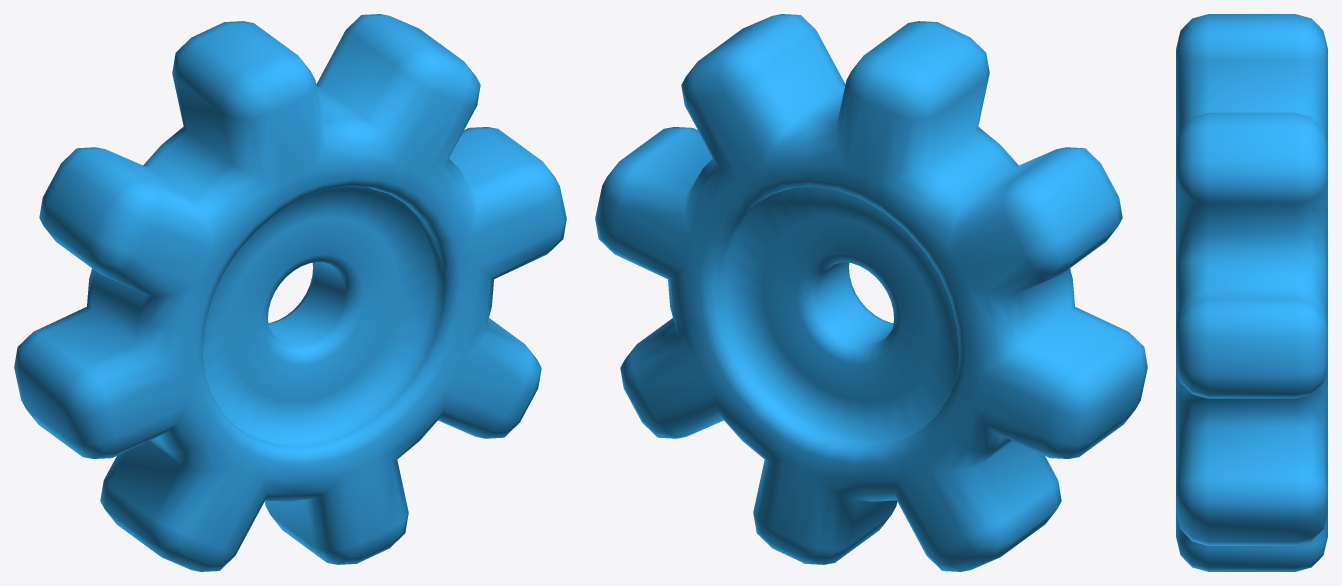
File: Gear.fbx
The picture shows the model from 3 angles, left to right: view 1: azimuth 30°, elevation 25°; view 2: azimuth 150°, elevation 25°; view 3: azimuth 270°, elevation 25°; orthographic projection. The views are drawn at different scales.
Parts seen in each view (by area): view 1: Gear; view 2: Gear; view 3: Gear.
Part boxes in pixels (x1,y1,x2,y2): Gear: (14, 14, 566, 571); Gear: (595, 14, 1147, 571); Gear: (1176, 14, 1327, 571).
Size of the model in its own units: 0.2189 by 0.2189 by 0.0594.
